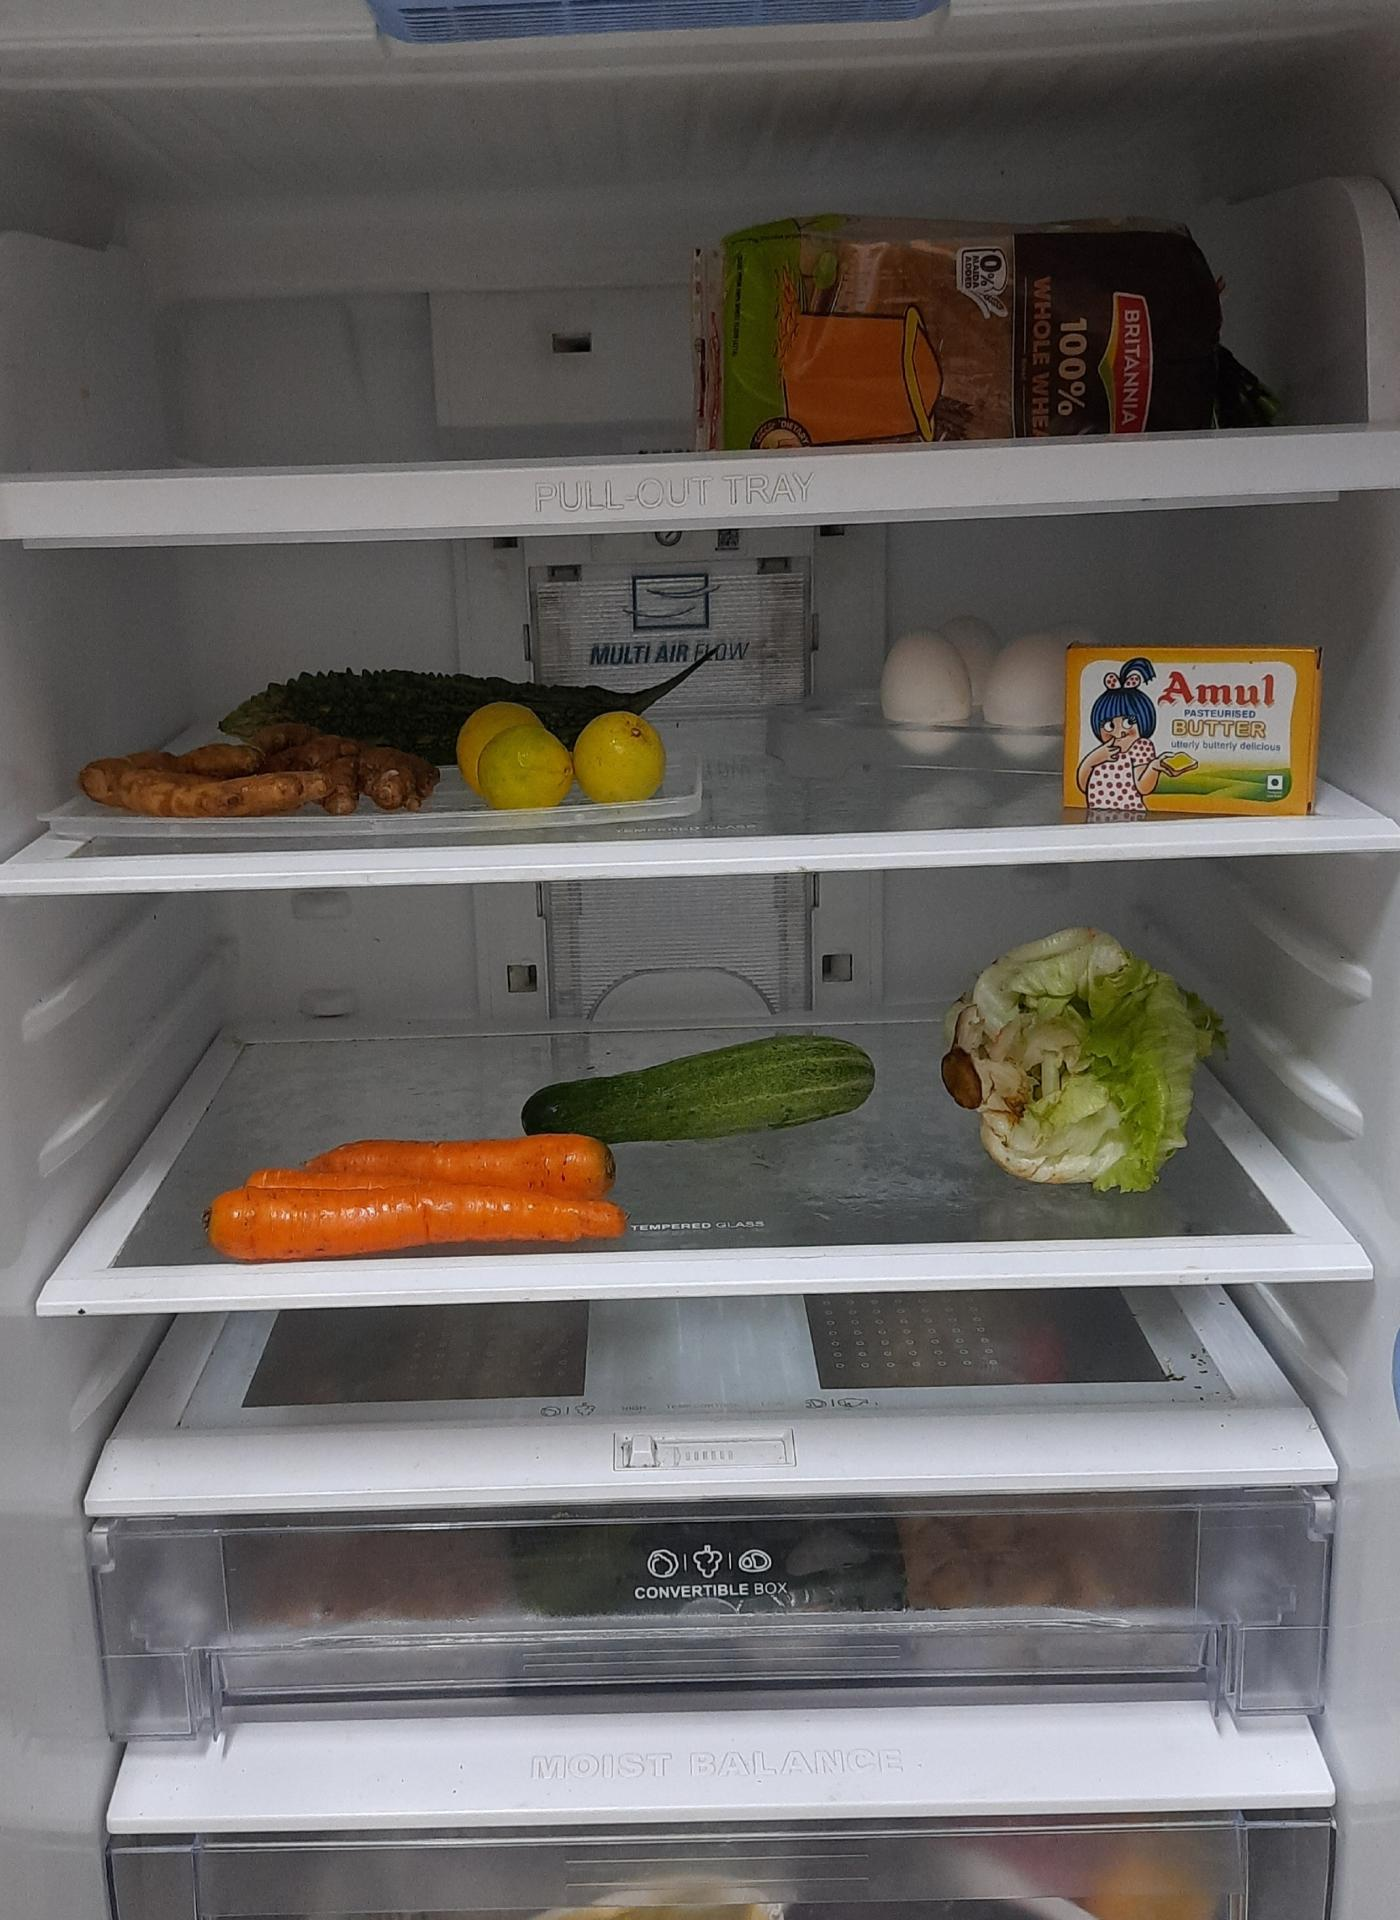bitter gourd: (222, 662, 707, 757)
bread: (687, 207, 1276, 444)
butter: (1069, 644, 1333, 814)
carrots: (201, 1130, 625, 1252)
cucumber: (517, 1035, 881, 1139)
egg: (884, 620, 1071, 763)
ginger: (79, 723, 440, 818)
lemon: (461, 710, 672, 818)
lettuce: (942, 924, 1202, 1191)
